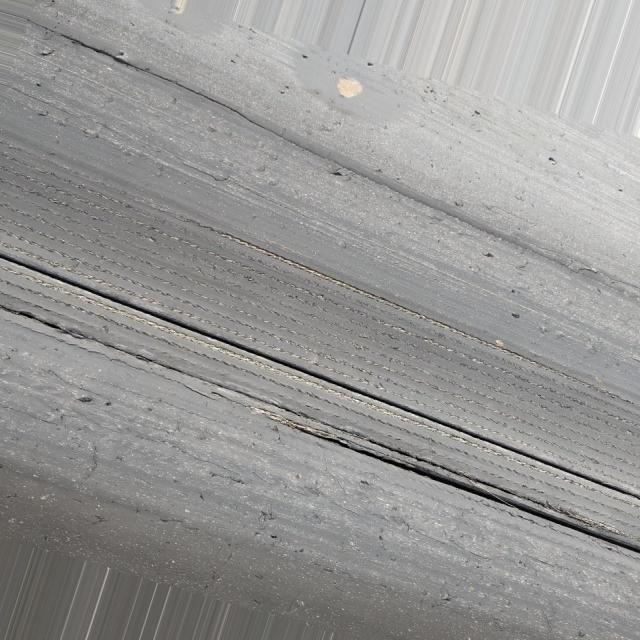Tear: (0, 297, 638, 555), (0, 250, 640, 503), (10, 8, 559, 267)
